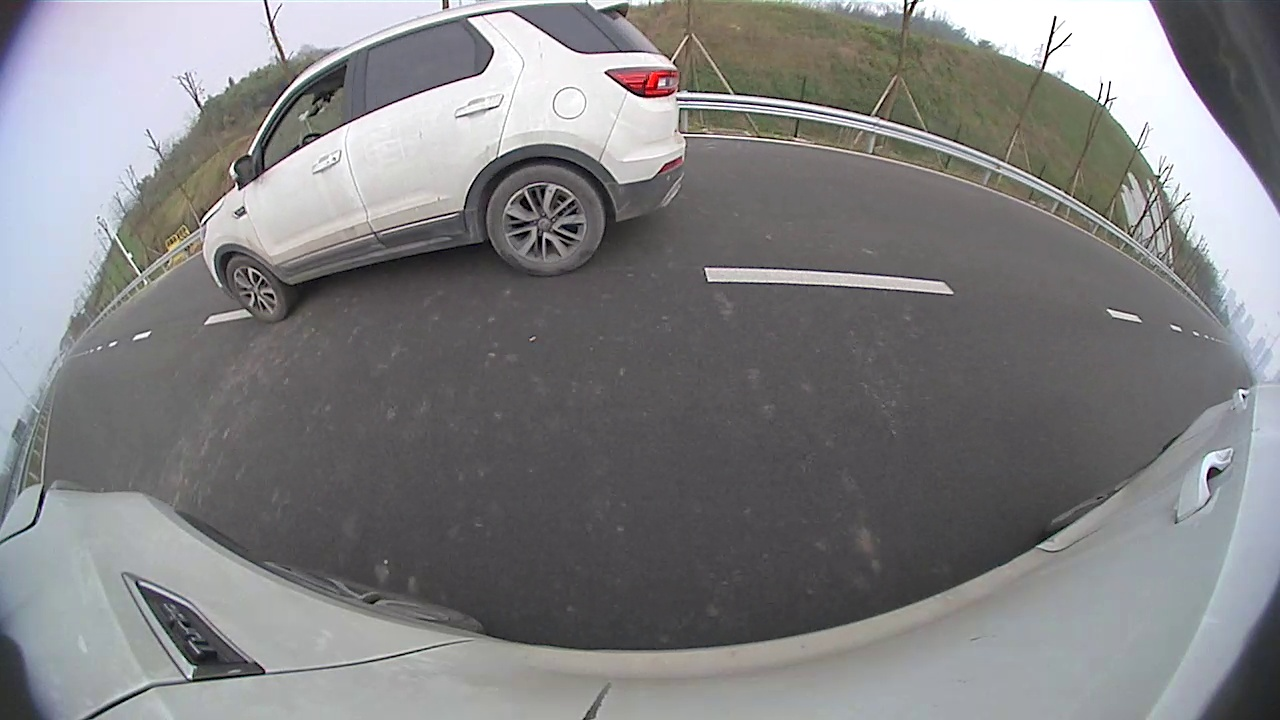car: (199, 1, 687, 323)
front: (224, 254, 288, 326)
rear: (485, 163, 606, 276)
